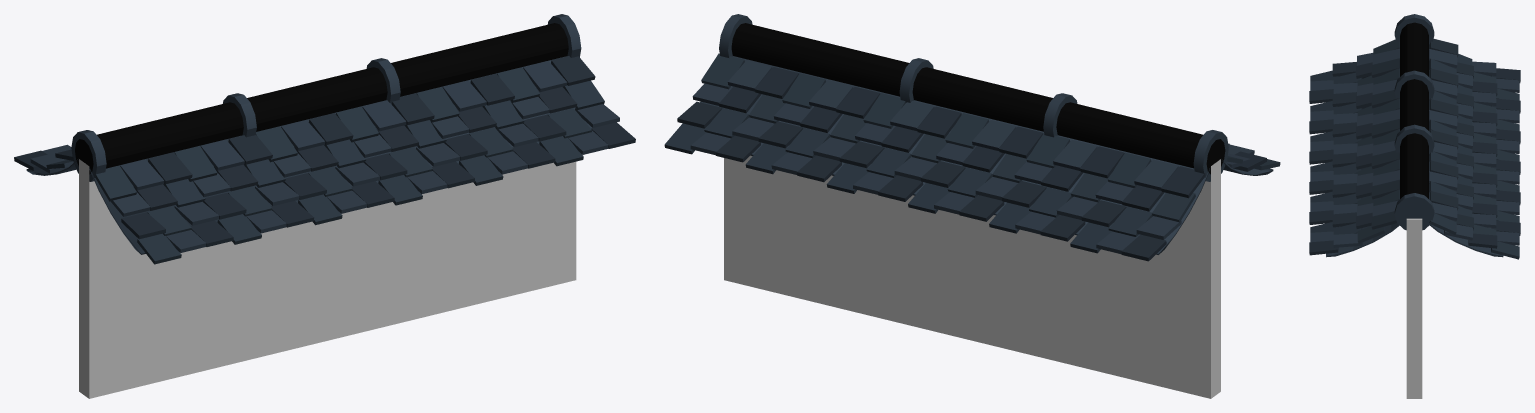
Rendered from Outside_Wall.fbx.
The picture shows the model from 3 angles, left to right: view 1: azimuth 30°, elevation 25°; view 2: azimuth 150°, elevation 25°; view 3: azimuth 270°, elevation 25°; orthographic projection. The views are drawn at different scales.
Parts seen in each view (by area): view 1: Outside_Wall_LOD0; view 2: Outside_Wall_LOD0; view 3: Outside_Wall_LOD0.
Part boxes in pixels (box(x1,y1,x2,y2)): Outside_Wall_LOD0: box(14, 14, 635, 398); Outside_Wall_LOD0: box(664, 14, 1280, 398); Outside_Wall_LOD0: box(1309, 14, 1520, 398).
Size of what is drawn, in the model's own units: 790 by 404 by 383.
